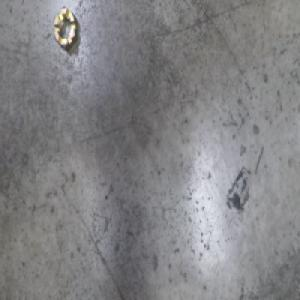Nut: (52, 9, 79, 54)
